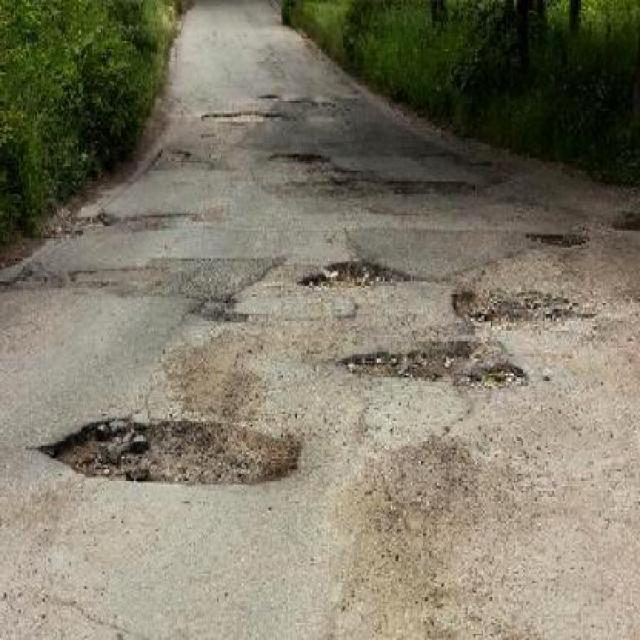pothole1: (39, 412, 306, 488), (336, 335, 530, 393), (452, 286, 577, 328), (299, 258, 413, 288), (190, 292, 252, 330), (527, 226, 591, 248), (200, 109, 288, 122), (269, 149, 333, 166), (611, 211, 638, 232)
